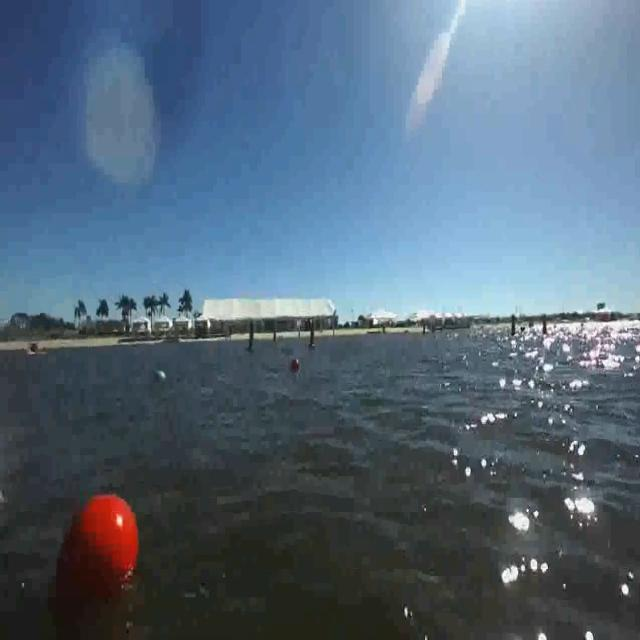green-buoy: (152, 365, 168, 396)
green-column-buoy: (246, 322, 258, 356)
red-buoy: (49, 483, 147, 613), (290, 358, 300, 374)
